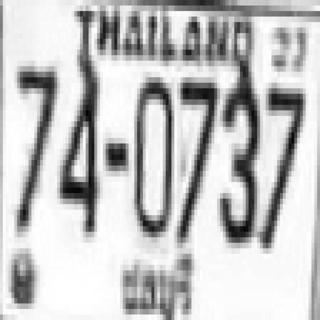N00: (132, 72, 172, 232)
N03: (217, 72, 257, 243)
N04: (57, 55, 97, 232)
N07: (13, 61, 56, 226), (260, 83, 303, 243), (176, 77, 216, 237)
P13: (115, 248, 193, 320)
